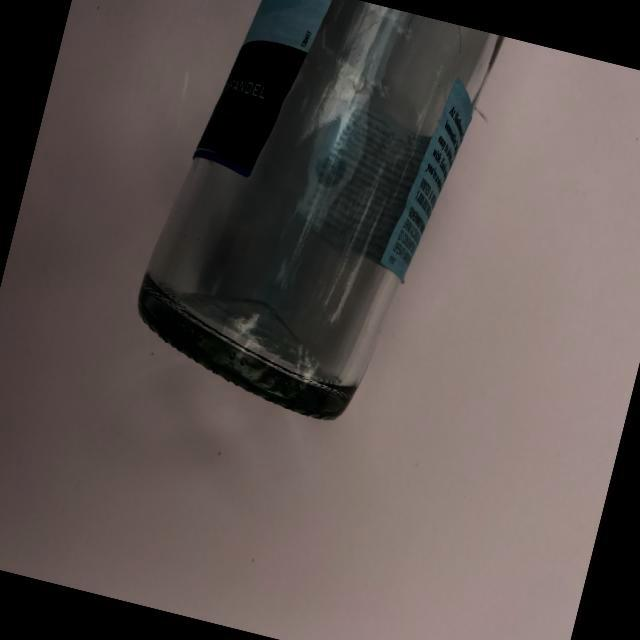glass: (93, 0, 558, 466)
